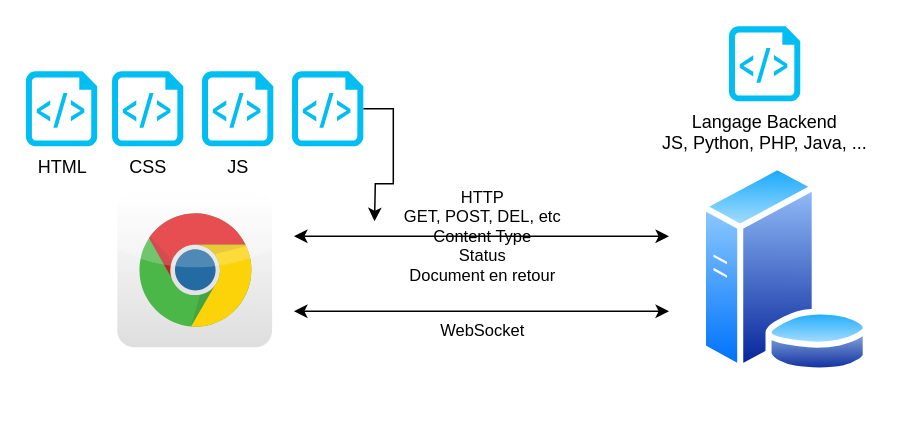
The diagram is 897 pixels wide and 435 high, and some of its shapes have lost their labels. Here are the shapes that lost their labels. From the top down, the centre of each, then its label:
At pixel 327 108: "WASM".
At pixel 784 269: "Serveur et BDD".
